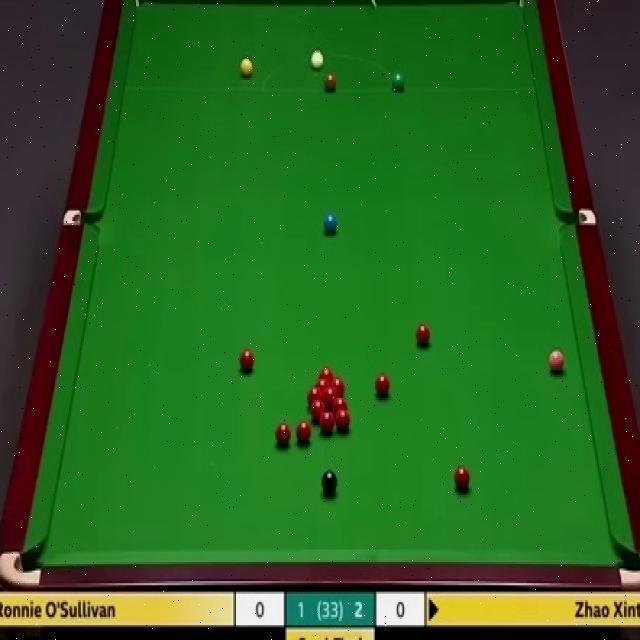black-ball: (321, 470, 338, 496)
blue-ball: (322, 212, 338, 236)
brown-ball: (324, 72, 338, 92)
green-ball: (392, 72, 404, 92)
pink-ball: (548, 348, 566, 377)
red-ball: (414, 325, 432, 350), (454, 466, 471, 492), (277, 419, 294, 444), (374, 373, 390, 399), (239, 348, 254, 374), (335, 408, 351, 432), (320, 410, 336, 433), (296, 422, 311, 446), (310, 400, 326, 420), (328, 378, 346, 394), (331, 397, 348, 411), (323, 388, 338, 402), (307, 386, 323, 399), (318, 366, 335, 378), (315, 378, 332, 387)
white-ball: (310, 48, 325, 72)
yellow-ball: (240, 54, 252, 78)
